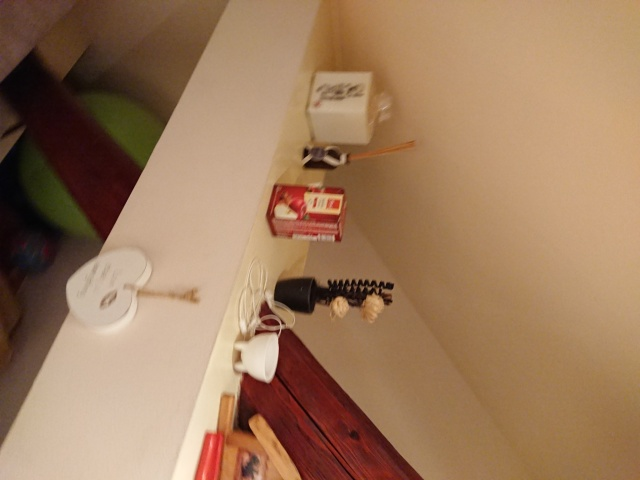Franck Apple Cinnamon Tea 60g: (263, 180, 350, 246)
